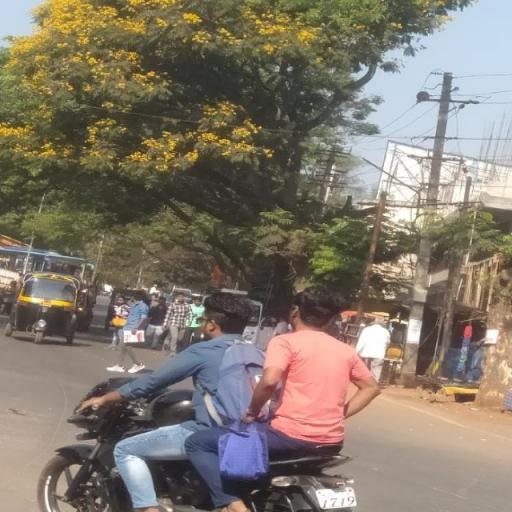bike: (24, 277, 393, 512)
withouthelmet: (295, 286, 342, 332), (202, 293, 250, 337)
